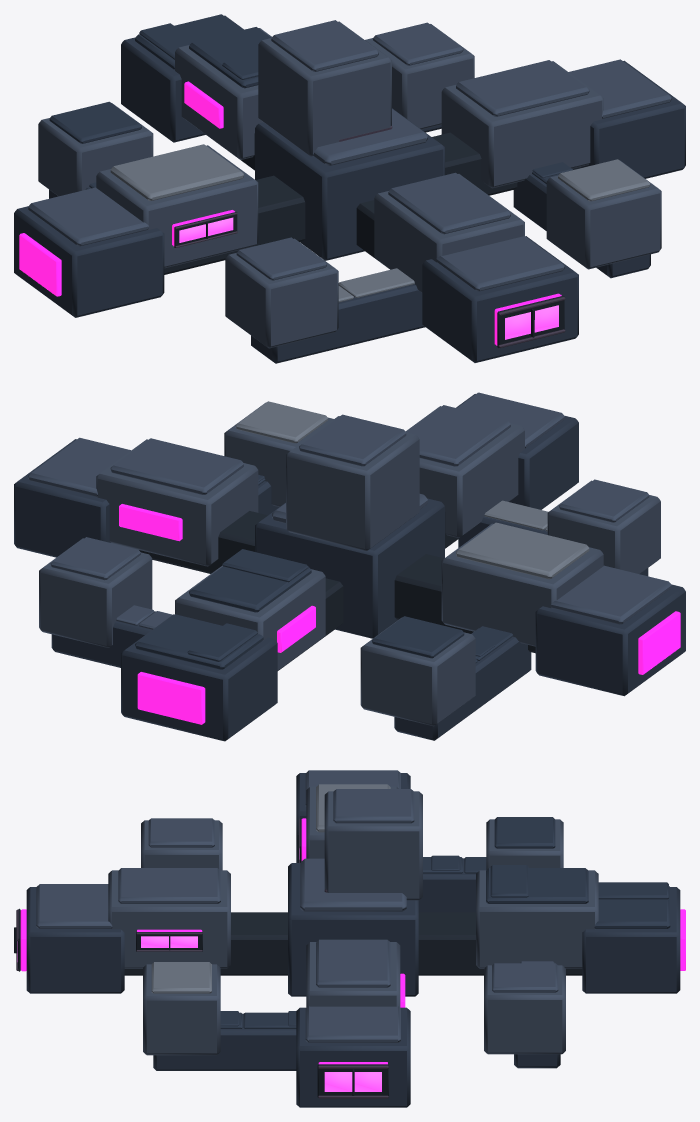
Rendered from 02_sternenbasis.glb.
3 renders of one model, top to bottom at view 1: azimuth 30°, elevation 25°; view 2: azimuth 150°, elevation 25°; view 3: azimuth 270°, elevation 25°, orthographic. The views are drawn at different scales.
Parts seen in each view (by area): view 1: Hull; view 2: Hull; view 3: Hull.
Boxes of the visible parts, box(x1,y1,x2,y2) form: Hull: box(14, 14, 685, 363); Hull: box(14, 392, 685, 741); Hull: box(14, 770, 685, 1107).
Bounding box in the file's own units: 18.18 × 5.25 × 18.18.
